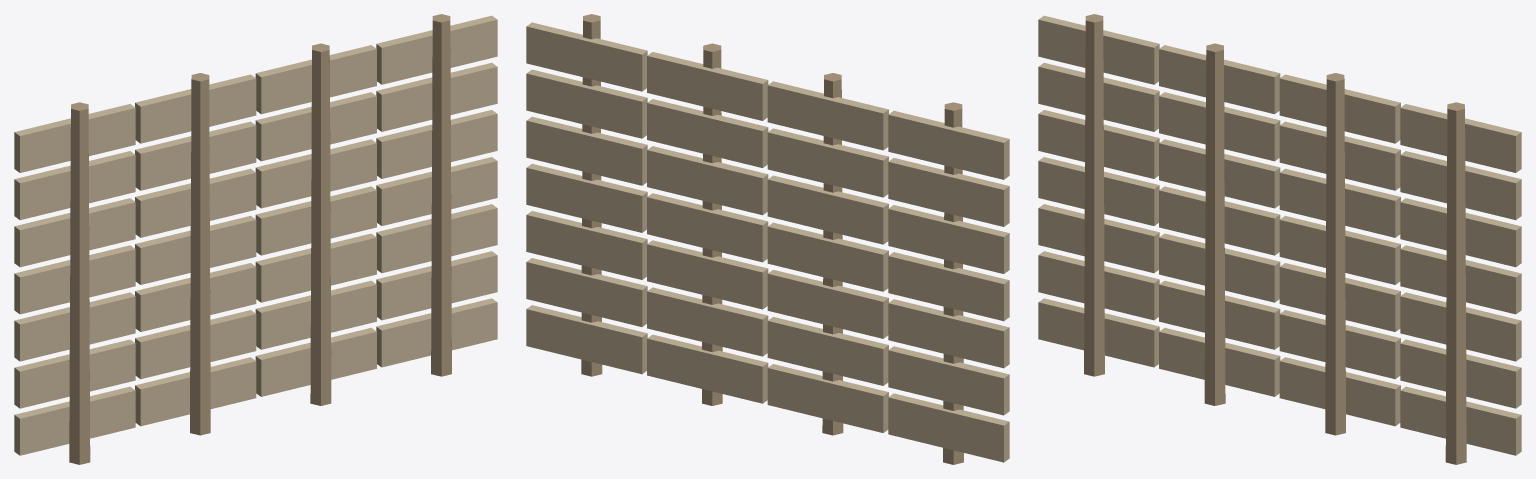
Rendered from trench-line-1917-revetment-hurdle-7317dc11__24041.glb.
3 renders of one model, left to right at view 1: azimuth 30°, elevation 25°; view 2: azimuth 150°, elevation 25°; view 3: azimuth 330°, elevation 25°, orthographic.
Visible parts, largest first — view 1: revetment-hurdle; view 2: revetment-hurdle; view 3: revetment-hurdle.
Boxes of the visible parts, x1,y1,x2,y2 form: revetment-hurdle: (14,14,497,464); revetment-hurdle: (526,14,1009,464); revetment-hurdle: (1038,14,1521,464).
Size of the model in its own units: 2.97 by 2.1 by 0.1361.
